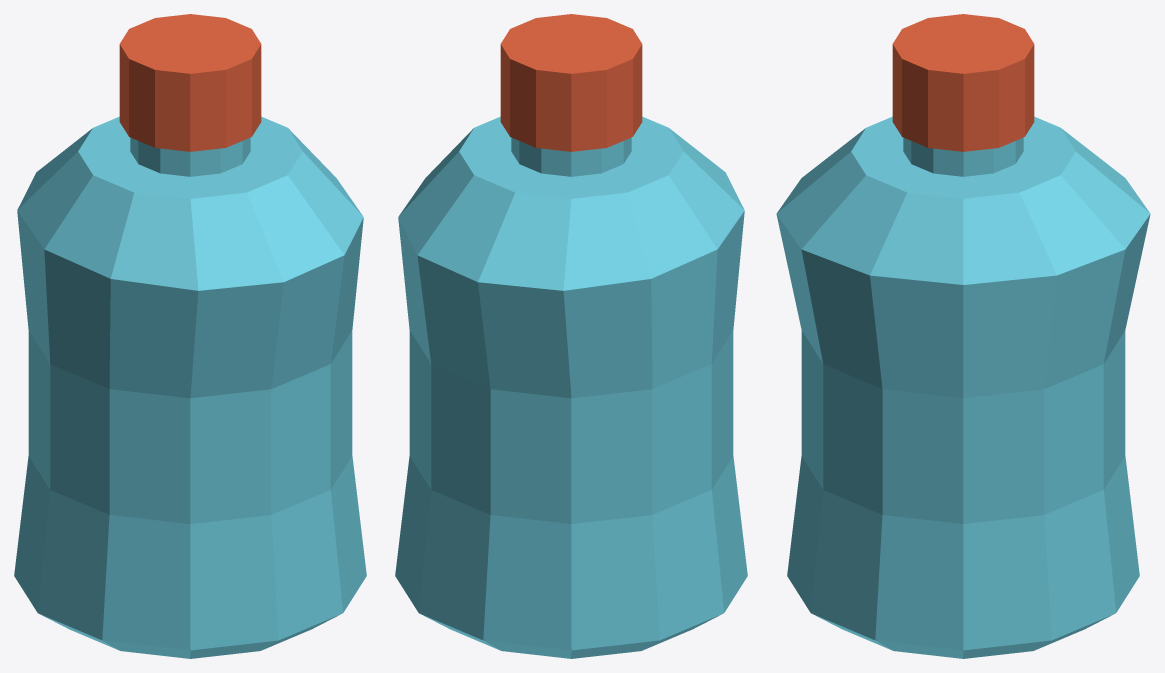
The model's file is SmolBottle.fbx.
The picture shows the model from 3 angles, left to right: view 1: azimuth 30°, elevation 25°; view 2: azimuth 150°, elevation 25°; view 3: azimuth 270°, elevation 25°; orthographic projection.
Parts seen in each view (by area): view 1: Cylinder.016, Cylinder.017; view 2: Cylinder.016, Cylinder.017; view 3: Cylinder.016, Cylinder.017.
Part boxes in pixels (bbox=[...]): Cylinder.016: bbox=[14, 116, 366, 658]; Cylinder.017: bbox=[119, 14, 261, 151]; Cylinder.016: bbox=[395, 116, 747, 658]; Cylinder.017: bbox=[500, 14, 642, 151]; Cylinder.016: bbox=[776, 116, 1150, 658]; Cylinder.017: bbox=[892, 14, 1034, 151].
Size of the model in its own units: 8.67 by 15.07 by 9.19.
